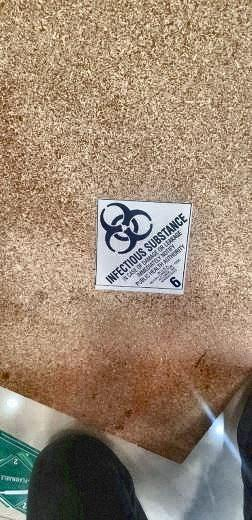infectious-substance: (94, 202, 193, 289)
